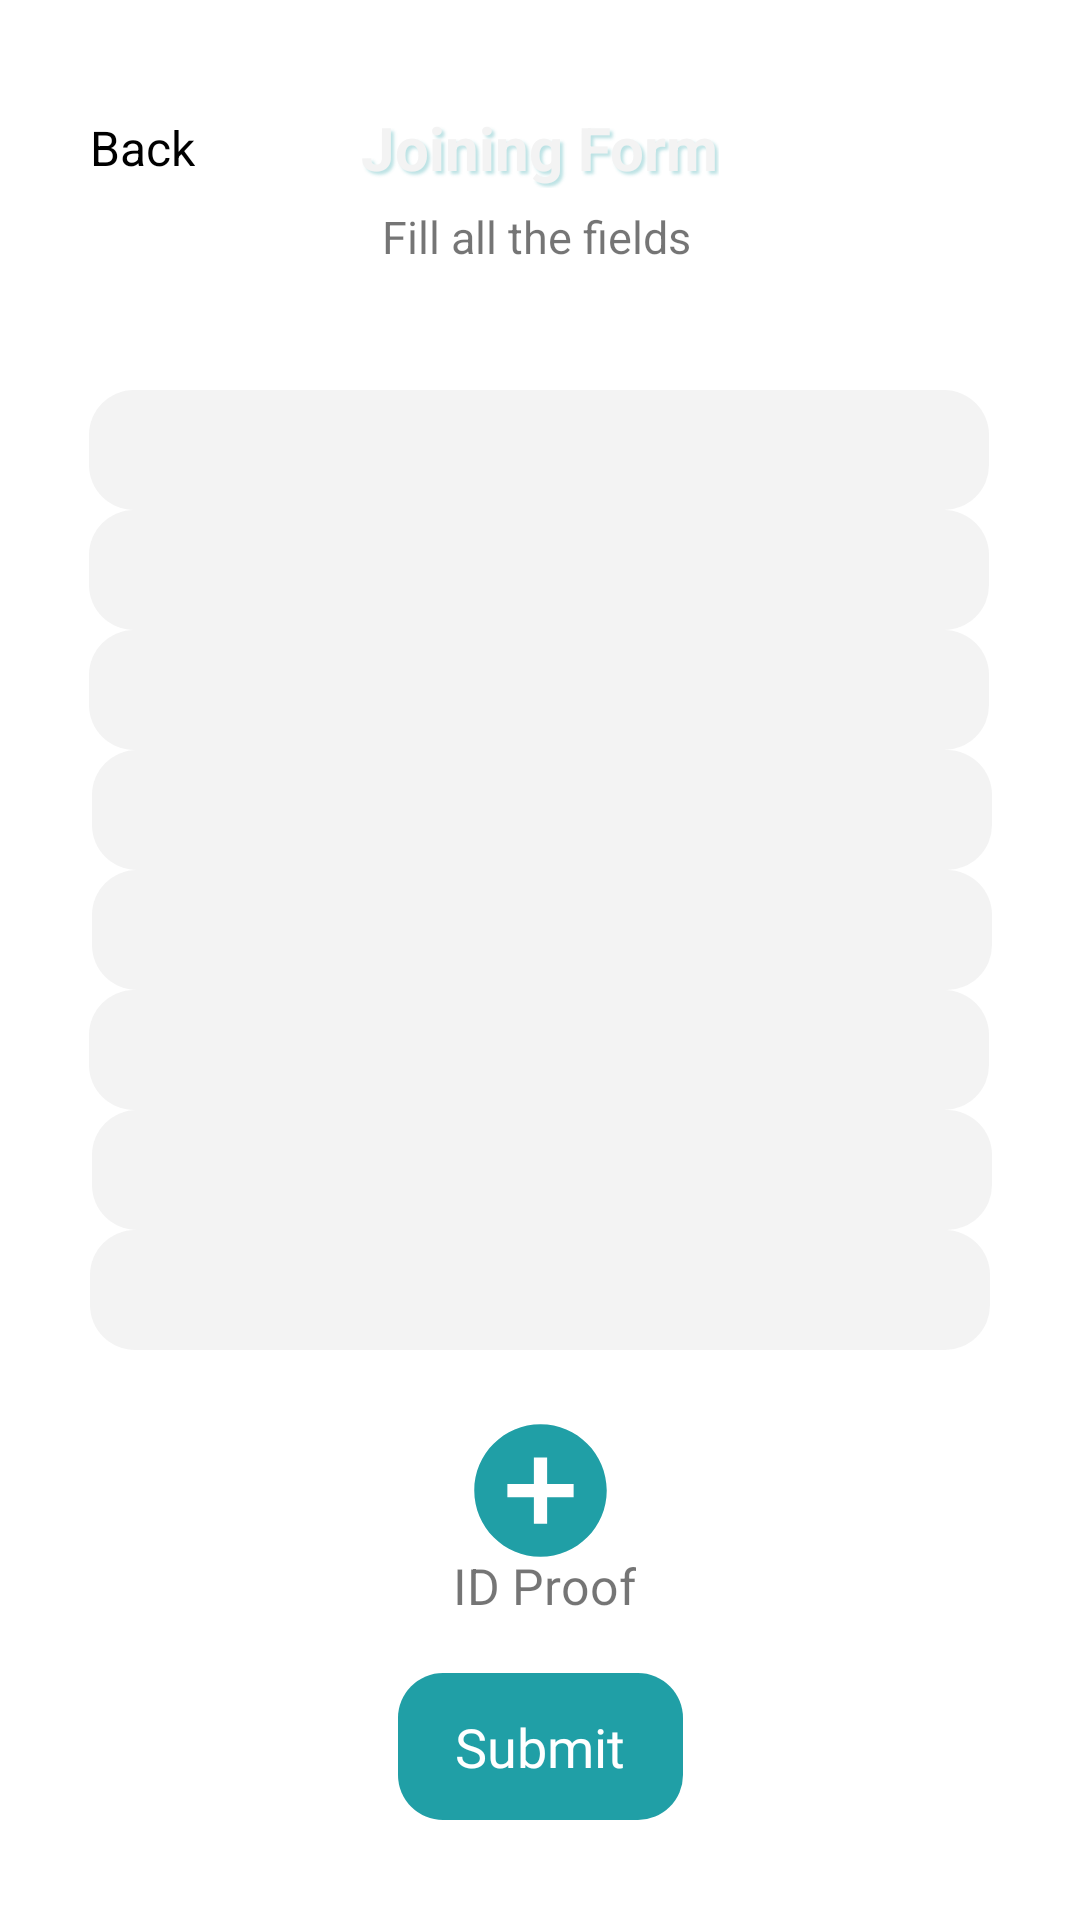

Where to tap for icons on this 1080 x 1920 app screen, as [x,y]:
add: [540,1490]
